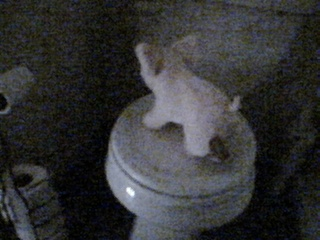piggy: (134, 33, 244, 160)
